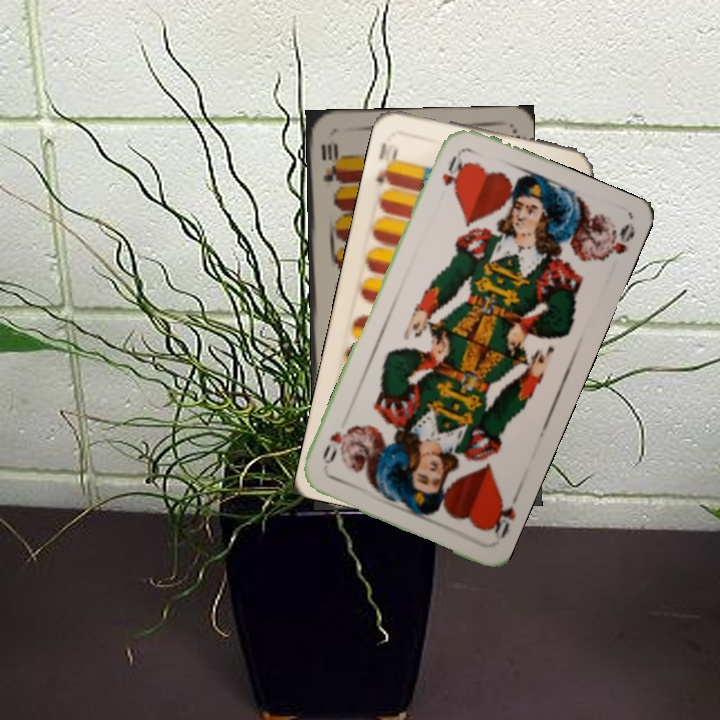E10: (317, 139, 341, 193), (372, 143, 401, 187)
HO: (483, 488, 523, 545), (438, 152, 466, 193)
